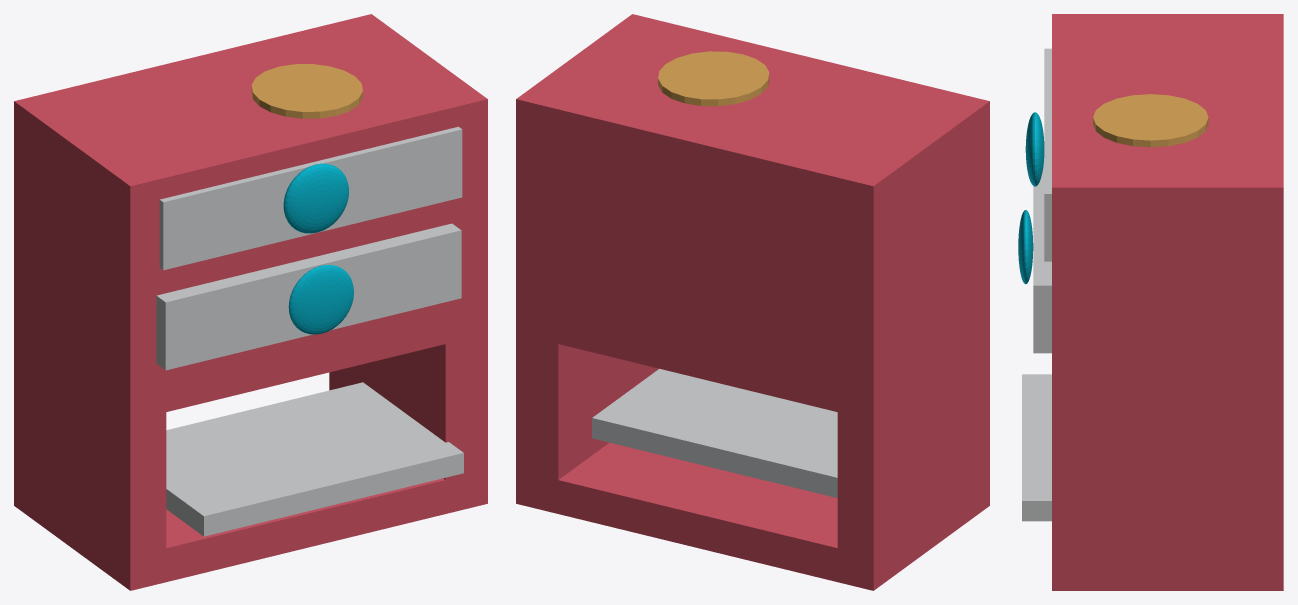
Rendered from TABLE.glb.
The picture shows the model from 3 angles, left to right: view 1: azimuth 30°, elevation 25°; view 2: azimuth 150°, elevation 25°; view 3: azimuth 270°, elevation 25°; orthographic projection.
Visible parts, largest first — view 1: Mesh_Mesh_head_geo.001_lambert2SG.001; view 2: Mesh_Mesh_head_geo.001_lambert2SG.001; view 3: Mesh_Mesh_head_geo.001_lambert2SG.001.
Part boxes in pixels (box(x1,y1,x2,y2)): Mesh_Mesh_head_geo.001_lambert2SG.001: box(14, 14, 487, 590); Mesh_Mesh_head_geo.001_lambert2SG.001: box(516, 14, 989, 590); Mesh_Mesh_head_geo.001_lambert2SG.001: box(1018, 14, 1283, 590).
Size of the model in its own units: 110 by 121 by 71.
